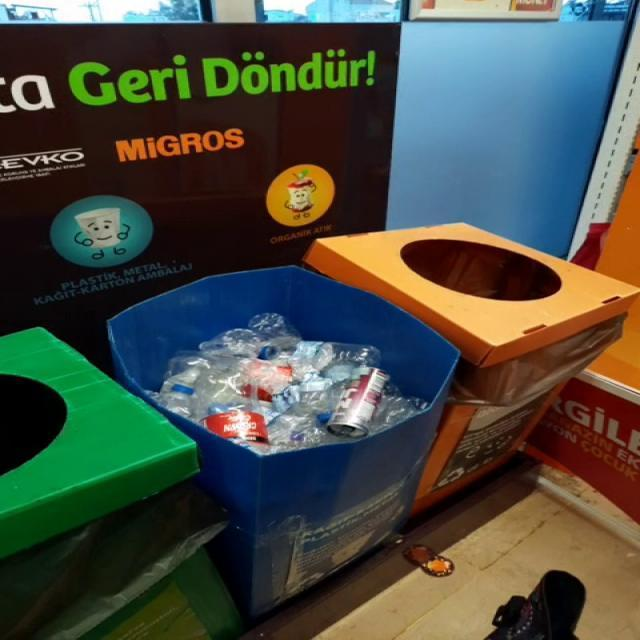Metal: (327, 367, 389, 438)
